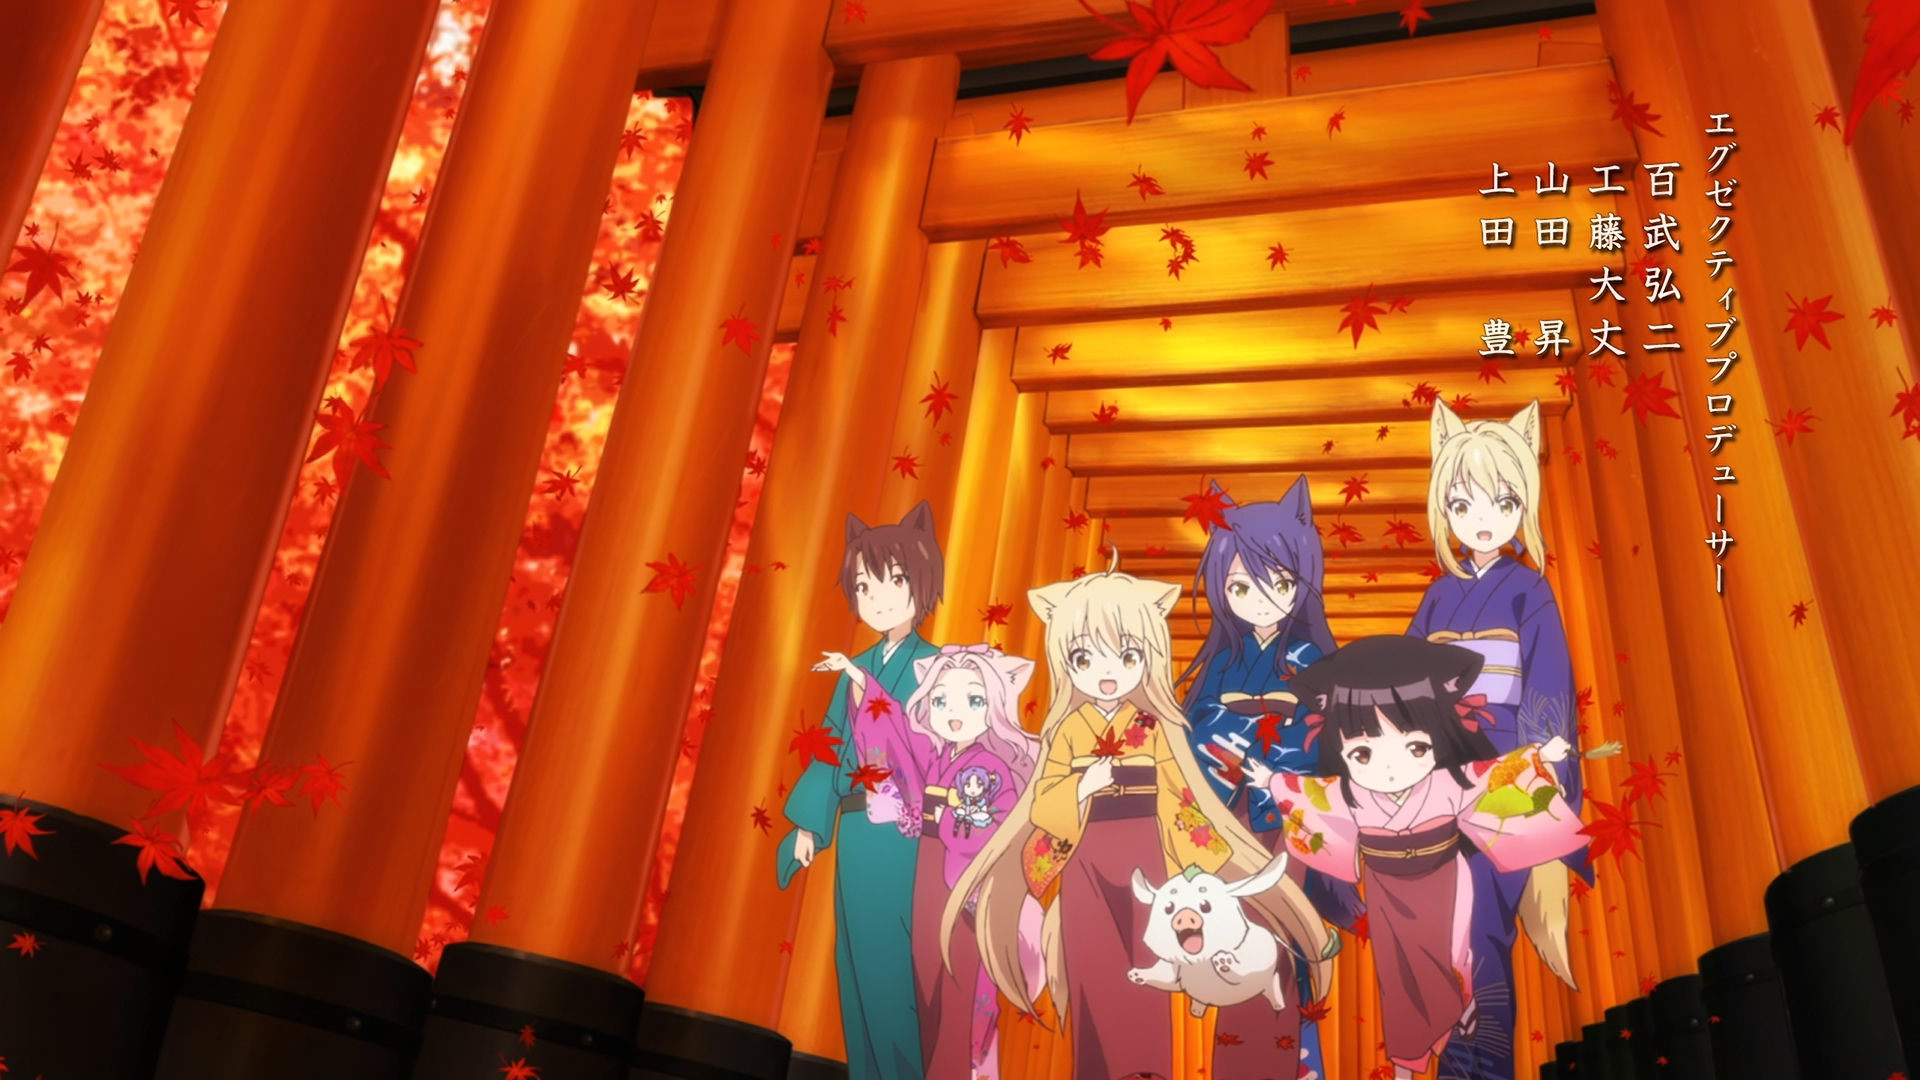枣: (775, 500, 943, 1080)
柚: (942, 541, 1335, 1080)
桐: (1402, 398, 1596, 1080)
樱: (1238, 636, 1571, 1080)
瓜之介: (1125, 851, 1342, 1018)
皋: (1176, 473, 1367, 1080)
莲: (814, 644, 1047, 1080)
阿菊: (949, 766, 1002, 837)
